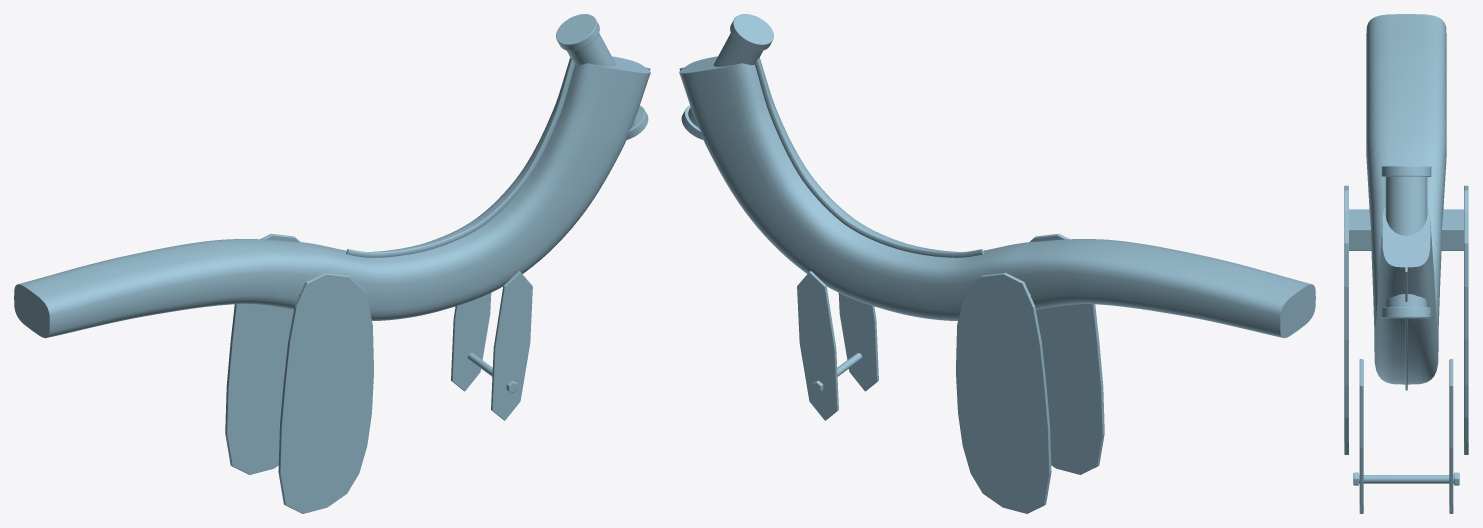
Rendered from bike_step_through__frame.glb.
3 views of the same model, side by side, from view 1: azimuth 30°, elevation 25°; view 2: azimuth 150°, elevation 25°; view 3: azimuth 270°, elevation 25° (orthographic). The views are drawn at different scales.
Parts seen in each view (by area): view 1: frame_body__frame__backbone, frame_body__frame__brackets, frame_body__frame__head_tube, frame_body__frame__seam_flange; view 2: frame_body__frame__backbone, frame_body__frame__brackets, frame_body__frame__head_tube, frame_body__frame__seam_flange; view 3: frame_body__frame__backbone, frame_body__frame__brackets, frame_body__frame__head_tube, frame_body__frame__seam_flange.
Boxes of the visible parts, bbox=[...] form: frame_body__frame__backbone: bbox=[14, 56, 650, 338]; frame_body__frame__brackets: bbox=[225, 233, 532, 513]; frame_body__frame__head_tube: bbox=[556, 14, 648, 139]; frame_body__frame__seam_flange: bbox=[346, 58, 650, 257]; frame_body__frame__backbone: bbox=[679, 56, 1315, 338]; frame_body__frame__brackets: bbox=[797, 233, 1104, 513]; frame_body__frame__head_tube: bbox=[681, 14, 773, 139]; frame_body__frame__seam_flange: bbox=[679, 58, 983, 257]; frame_body__frame__backbone: bbox=[1366, 14, 1446, 384]; frame_body__frame__brackets: bbox=[1344, 185, 1468, 513]; frame_body__frame__head_tube: bbox=[1381, 166, 1431, 318]; frame_body__frame__seam_flange: bbox=[1405, 266, 1407, 390].
Bounding box in the file's own units: 99.91 × 61.77 × 15.5.
